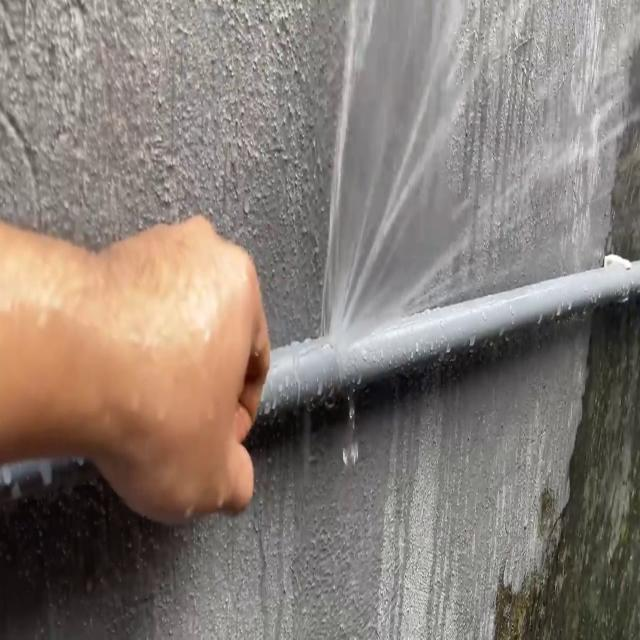leak: (317, 0, 640, 343)
